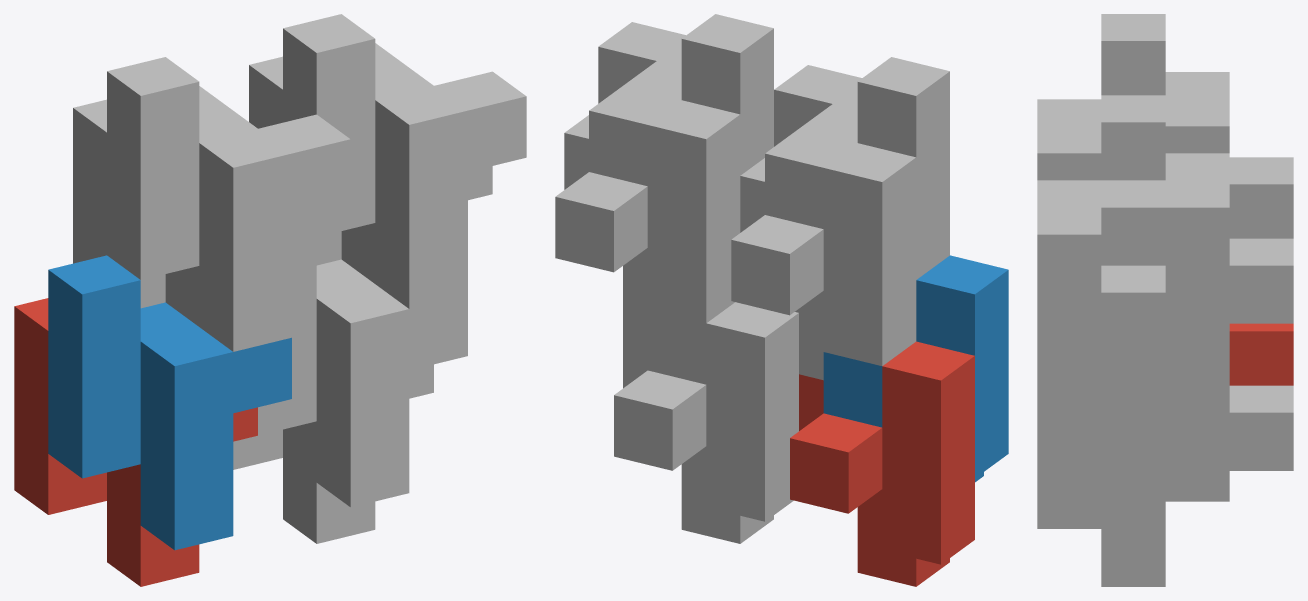
Rendered from tiling.obj.
3 views of the same model, side by side, from view 1: azimuth 30°, elevation 25°; view 2: azimuth 150°, elevation 25°; view 3: azimuth 270°, elevation 25° (orthographic). The views are drawn at different scales.
Parts seen in each view (by area): view 1: copy_1_domain_4, copy_1_domain_2, copy_1_domain_8, copy_1_domain_6, copy_1_domain_1, copy_1_domain_3, copy_1_domain_5, copy_1_domain_7; view 2: copy_1_domain_1, copy_1_domain_5, copy_1_domain_3, copy_1_domain_7, copy_1_domain_4, copy_1_domain_8, copy_1_domain_2, copy_1_domain_6; view 3: copy_1_domain_8, copy_1_domain_7, copy_1_domain_5, copy_1_domain_4, copy_1_domain_6, copy_1_domain_3, copy_1_domain_1.
Boxes of the visible parts, x1,y1,x2,y2 form: copy_1_domain_4: (107, 57, 350, 351); copy_1_domain_2: (48, 255, 291, 550); copy_1_domain_8: (283, 14, 526, 308); copy_1_domain_6: (258, 237, 467, 507); copy_1_domain_1: (14, 298, 257, 586); copy_1_domain_3: (73, 99, 316, 326); copy_1_domain_5: (233, 364, 433, 543); copy_1_domain_7: (249, 56, 492, 283); copy_1_domain_1: (790, 341, 974, 586); copy_1_domain_5: (614, 302, 798, 543); copy_1_domain_3: (731, 143, 916, 380); copy_1_domain_7: (555, 100, 740, 337); copy_1_domain_4: (765, 57, 949, 279); copy_1_domain_8: (589, 14, 773, 185); copy_1_domain_2: (823, 255, 1008, 482); copy_1_domain_6: (647, 309, 798, 384); copy_1_domain_8: (1037, 95, 1229, 381); copy_1_domain_7: (1101, 153, 1293, 439); copy_1_domain_5: (1101, 385, 1293, 586); copy_1_domain_4: (1037, 14, 1229, 180); copy_1_domain_6: (1037, 354, 1229, 528); copy_1_domain_3: (1165, 72, 1293, 238); copy_1_domain_1: (1229, 323, 1293, 385).
Bounding box in the file's own units: 7 × 8 × 4.
